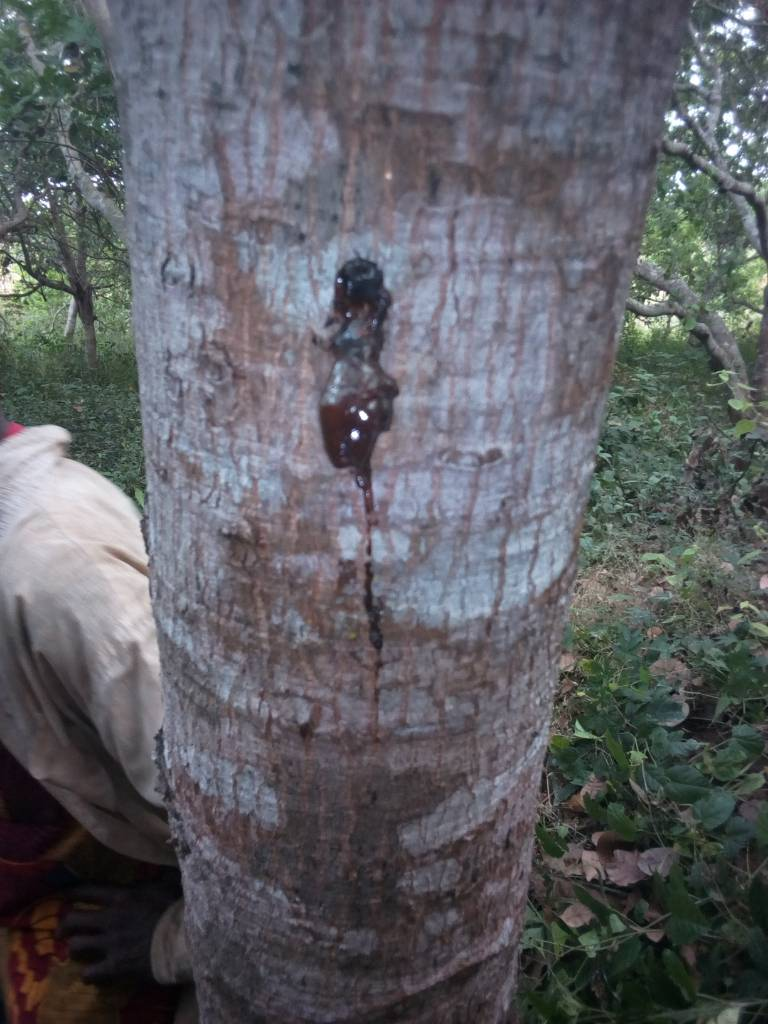Mecocorynus longiceps: (275, 225, 452, 583)
